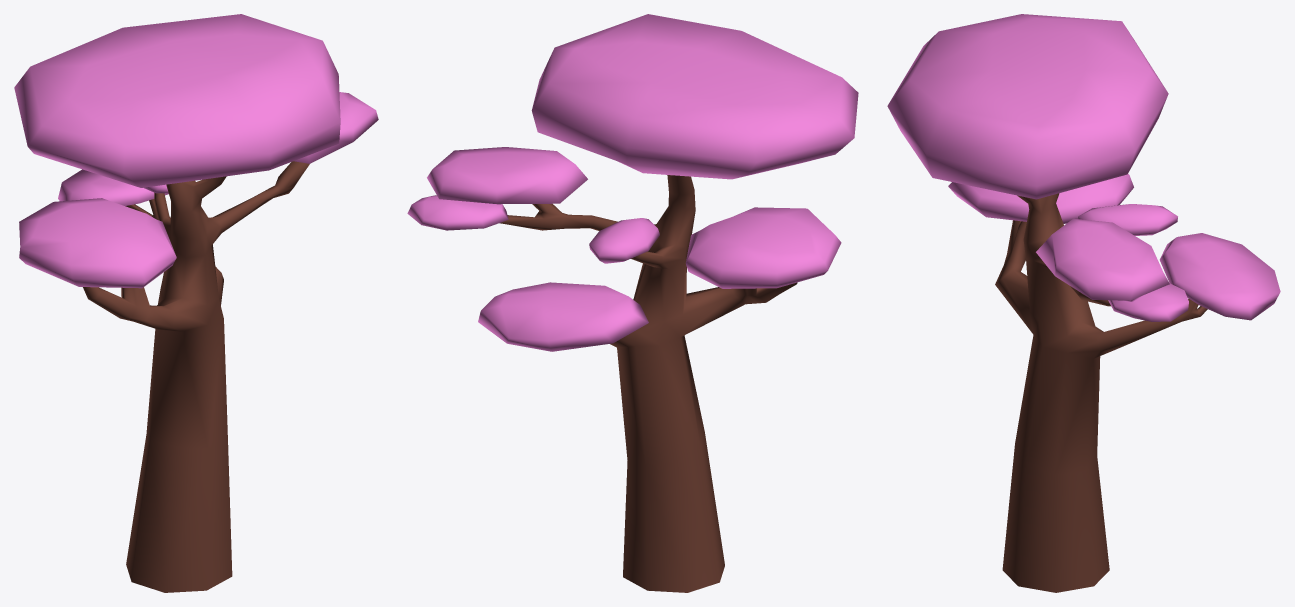
The model's file is Arvore_Cerejera_6.fbx.
The picture shows the model from 3 angles, left to right: view 1: azimuth 30°, elevation 25°; view 2: azimuth 150°, elevation 25°; view 3: azimuth 270°, elevation 25°; orthographic projection. The views are drawn at different scales.
Visible parts, largest first — view 1: Arvore_Cerejera_6; view 2: Arvore_Cerejera_6; view 3: Arvore_Cerejera_6.
Boxes of the visible parts, x1=… form: Arvore_Cerejera_6: x1=14, y1=14, x2=378, y2=592; Arvore_Cerejera_6: x1=407, y1=14, x2=858, y2=592; Arvore_Cerejera_6: x1=887, y1=14, x2=1280, y2=592.
Bounding box in the file's own units: 3.92 × 4.36 × 5.54.
